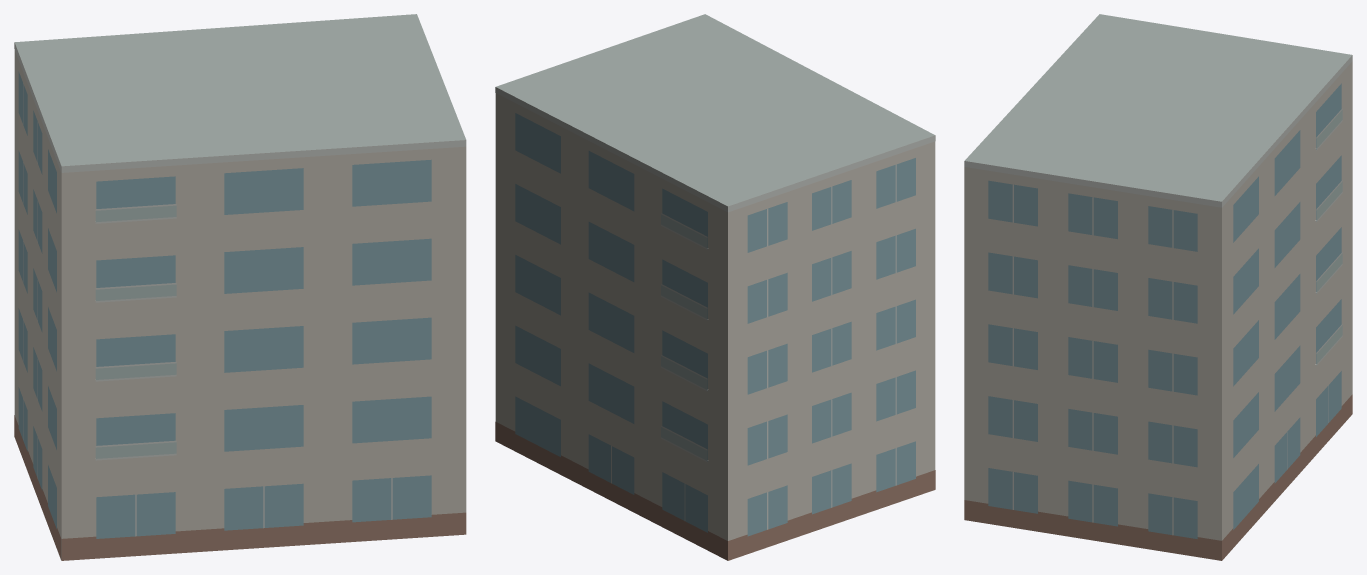
Rendered from survey-upis-32877232.glb.
The picture shows the model from 3 angles, left to right: view 1: azimuth 30°, elevation 25°; view 2: azimuth 150°, elevation 25°; view 3: azimuth 270°, elevation 25°; orthographic projection. The views are drawn at different scales.
Visible parts, largest first — view 1: survey-upis-32877232.tmp; view 2: survey-upis-32877232.tmp; view 3: survey-upis-32877232.tmp.
Part boxes in pixels (left/top/right/bottom): survey-upis-32877232.tmp: left=14, top=14, right=466, bottom=560; survey-upis-32877232.tmp: left=495, top=14, right=935, bottom=560; survey-upis-32877232.tmp: left=964, top=14, right=1352, bottom=560.
Size of the model in its own units: 16.27 by 14.5 by 14.21.
